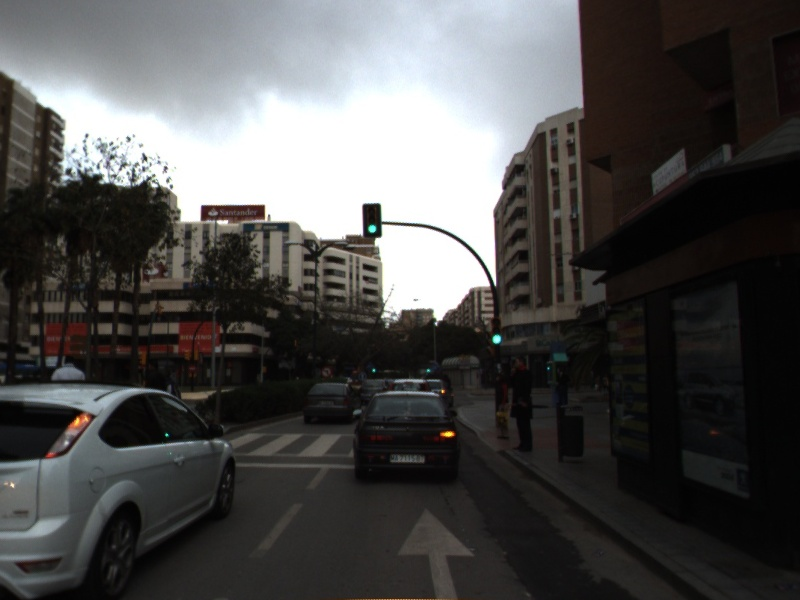STRAIGHT: (393, 503, 479, 600)
